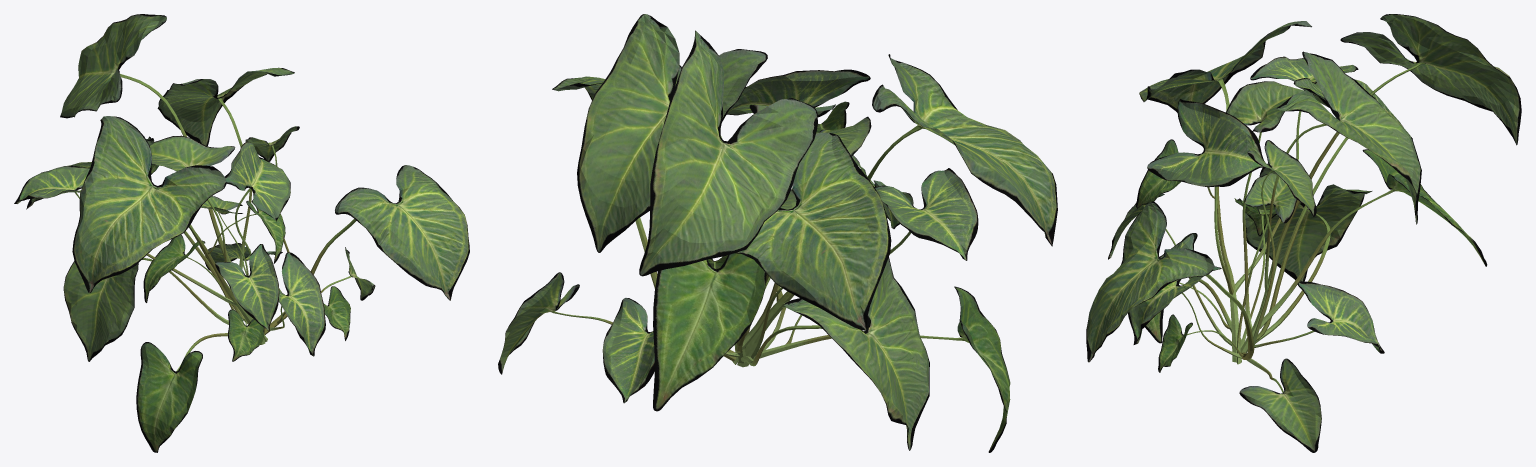
Rendered from floor-b.glb.
3 views of the same model, side by side, from view 1: azimuth 30°, elevation 25°; view 2: azimuth 150°, elevation 25°; view 3: azimuth 270°, elevation 25° (orthographic). The views are drawn at different scales.
Size of the model in its own units: 0.7012 by 0.6326 by 0.6432.
1 material, 1 textured.
